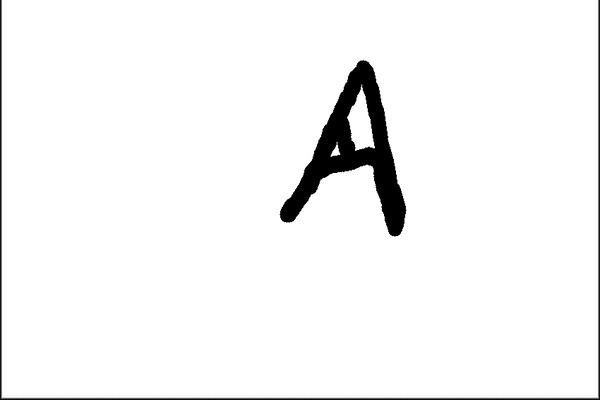A: (269, 44, 418, 250)
